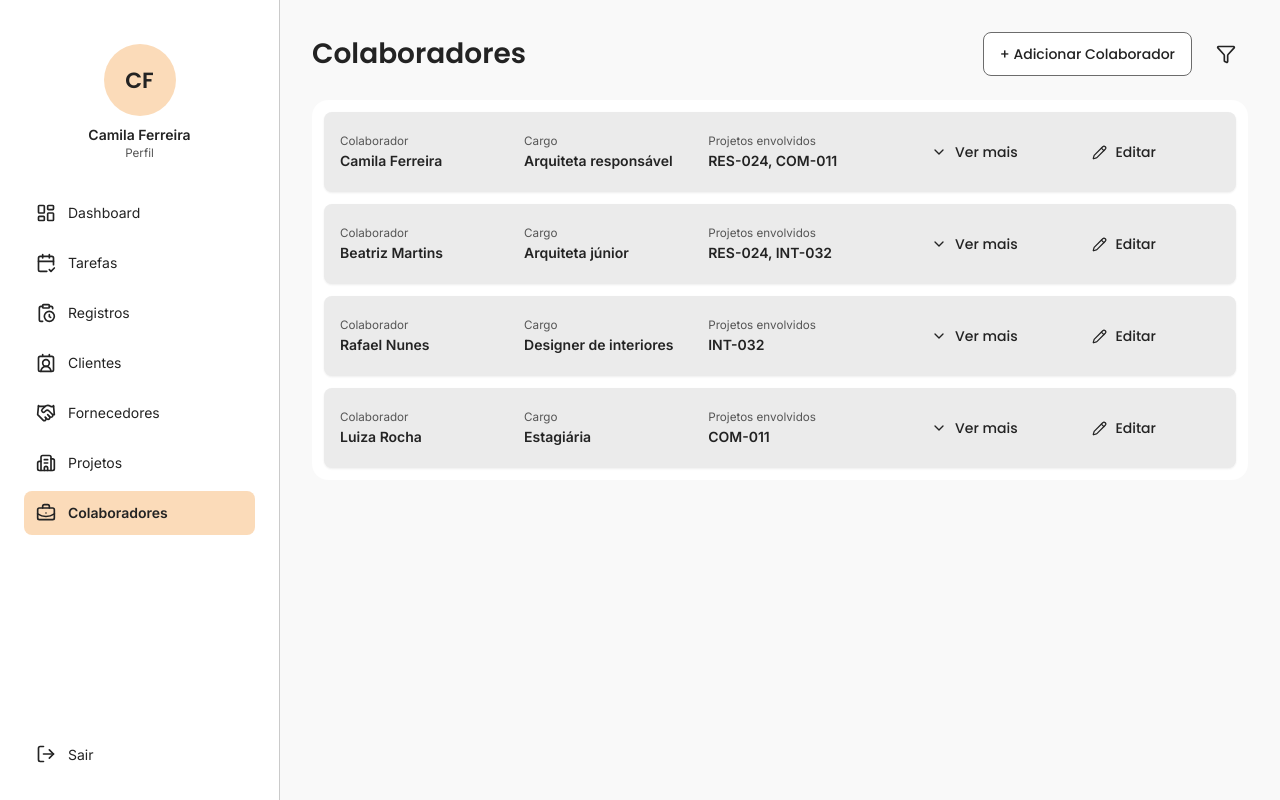
Test: Listas › Colaboradores: "Projetos envolvidos" não duplica ao expandir
Click the button "Ver mais" next to "RES-024, COM-011".
click(974, 152)  # box [892,130,1056,174]
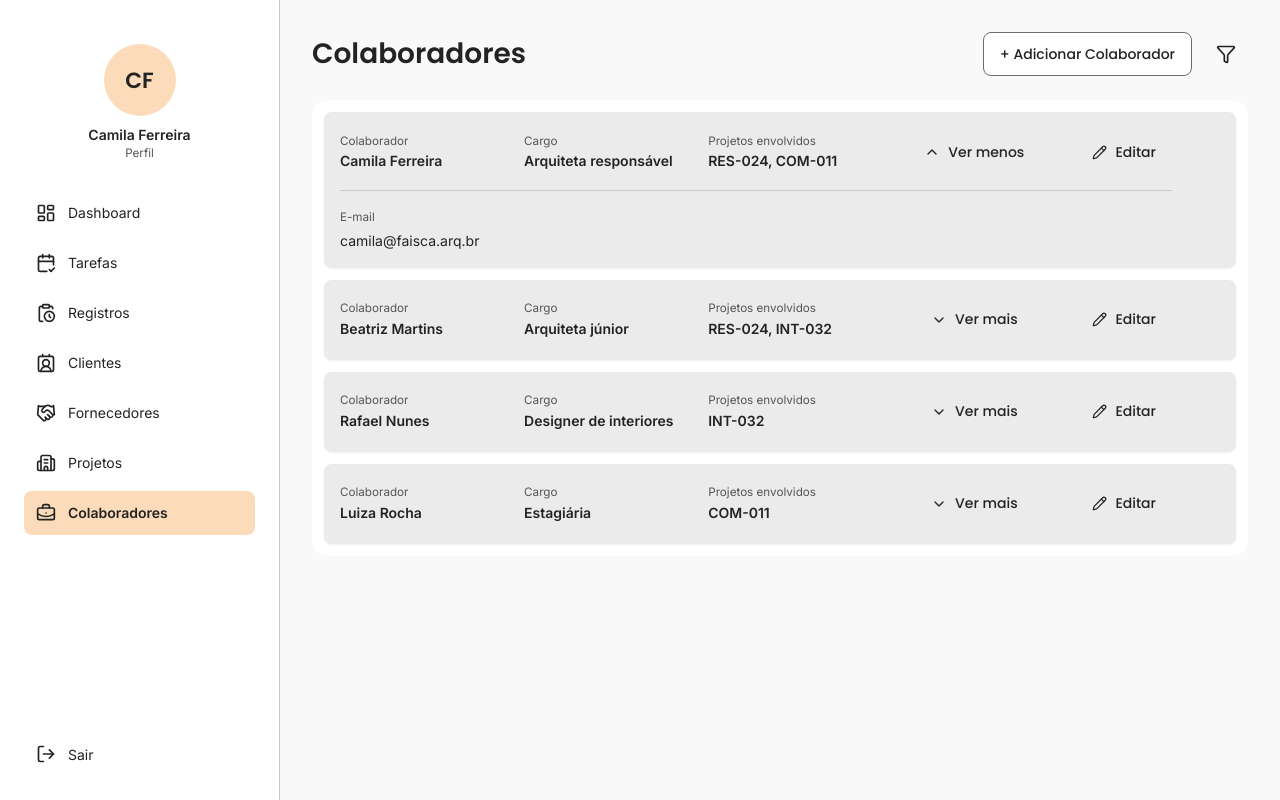
expect the text "Projetos envolvidos" is shown 4 times: met, box [708,134,816,148]; [708,301,816,315]; [708,393,816,407]; [708,485,816,499]
